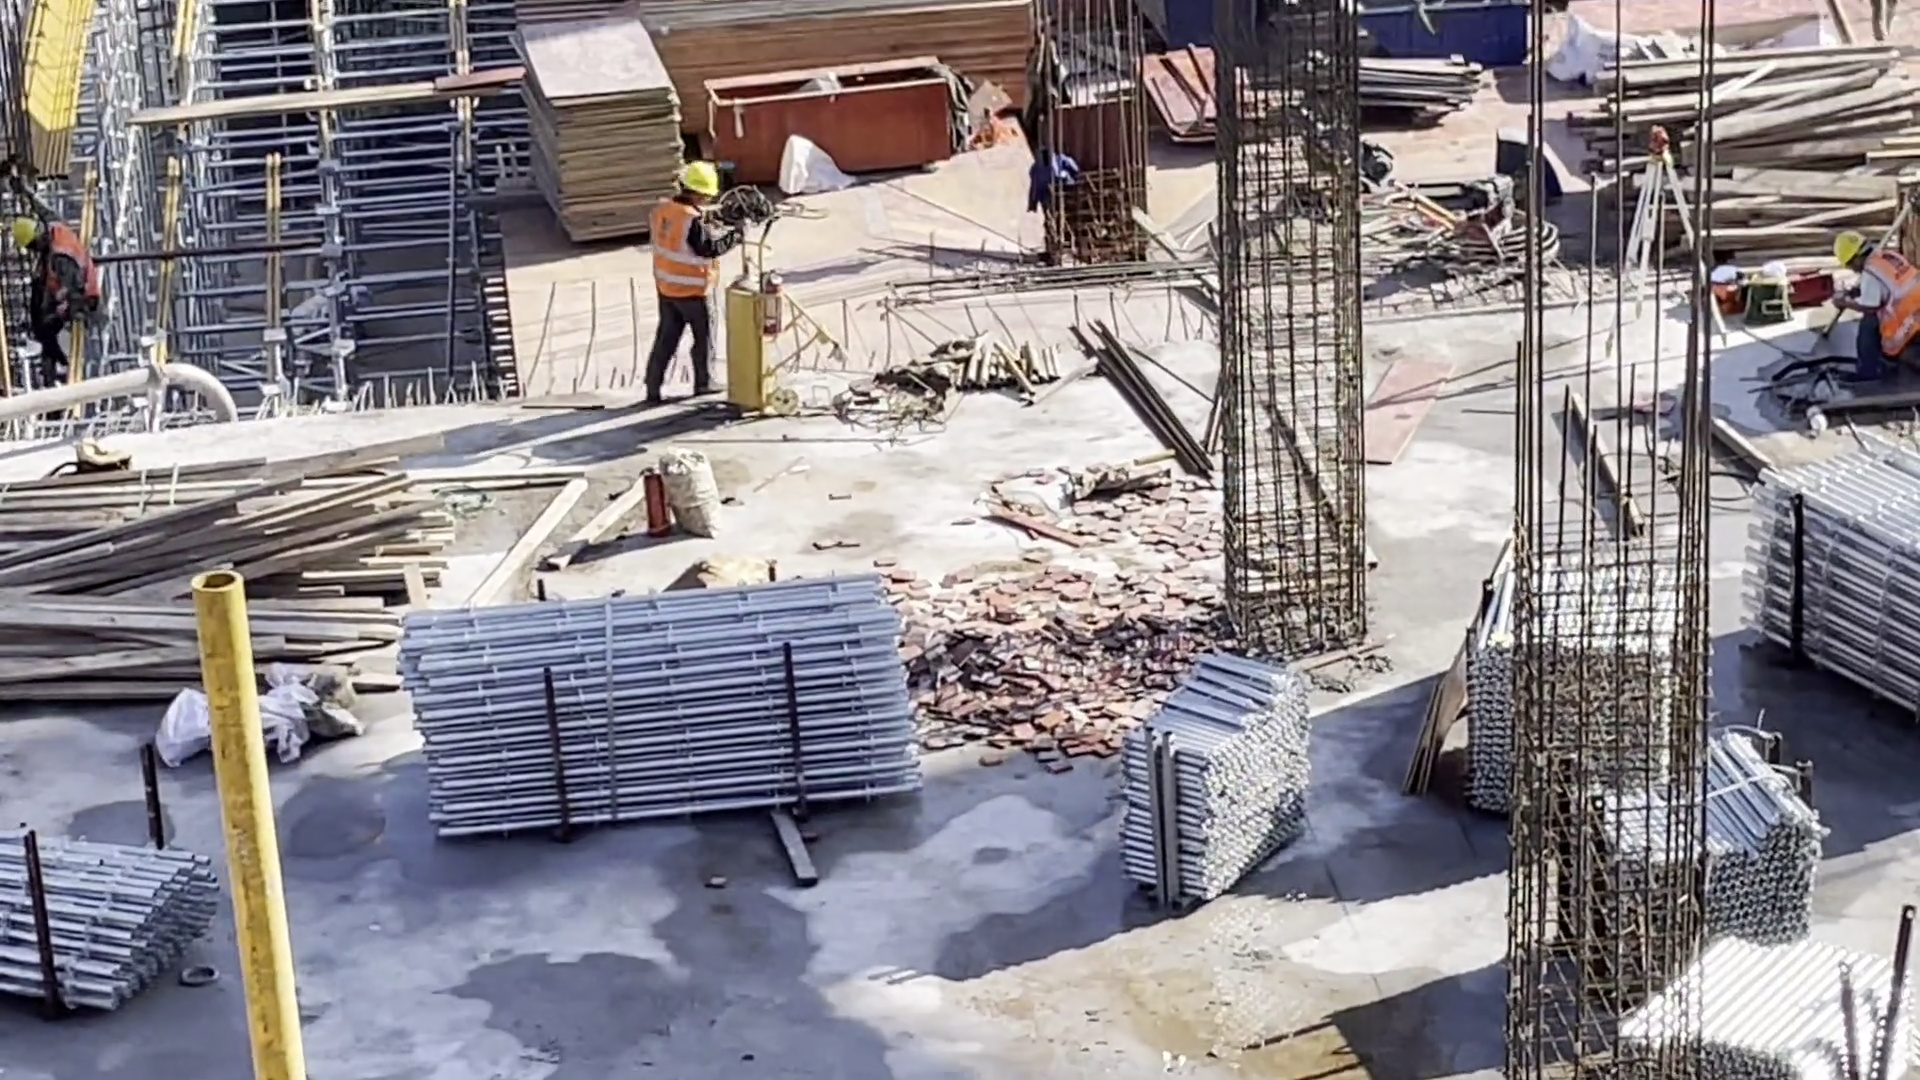board: (511, 14, 685, 249)
helmet: (683, 162, 722, 195), (1833, 228, 1862, 257), (15, 219, 39, 249)
hopper: (1361, 6, 1535, 71)
person: (640, 160, 723, 417), (1823, 228, 1920, 381), (11, 215, 108, 342)
scaffold: (1462, 522, 1911, 1080), (391, 570, 928, 838), (1739, 431, 1920, 710), (1120, 650, 1314, 904), (2, 820, 217, 1016)
vest: (1862, 247, 1920, 366), (654, 202, 715, 308), (48, 228, 106, 313)
wood: (1584, 39, 1913, 252), (661, 2, 1036, 122)
